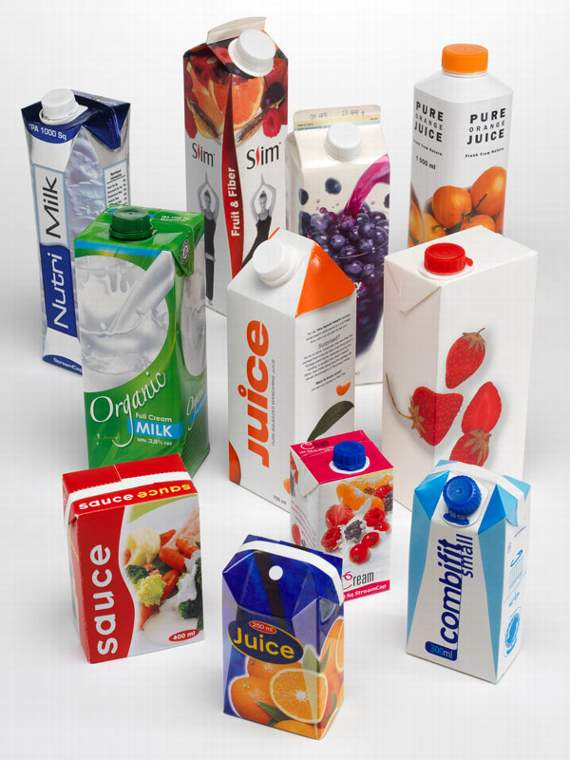carton: (45, 435, 216, 667), (400, 470, 542, 696)
